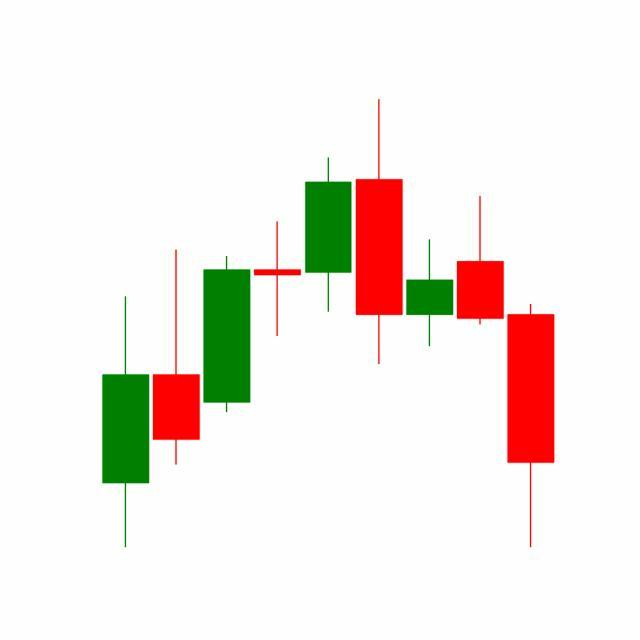Hikkake Pattern: (252, 100, 506, 370)
